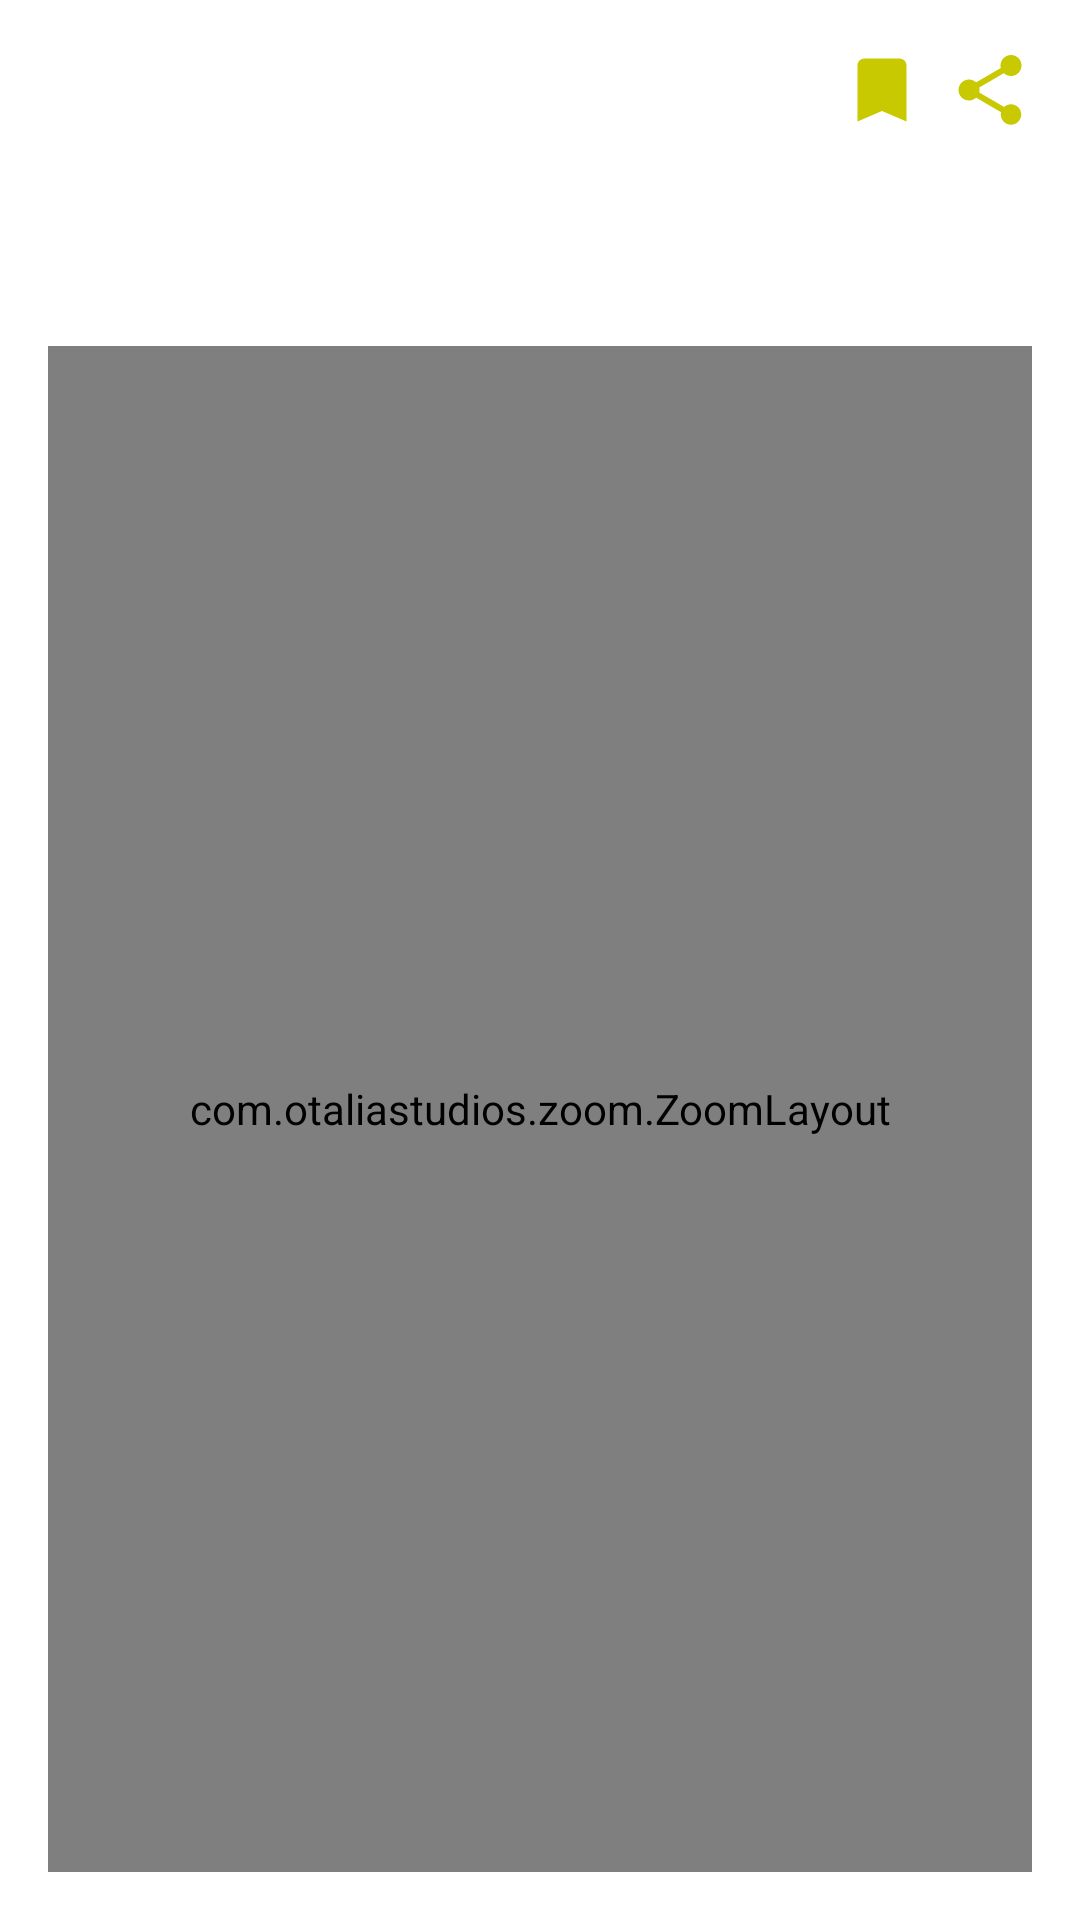

Screen size 1080x1920. Icon name, then its box in pixels as (x1, y1, x2, y2):
bookmark: (857, 58, 907, 122)
share: (958, 55, 1022, 125)
